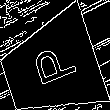P_W: (23, 42, 78, 94)
